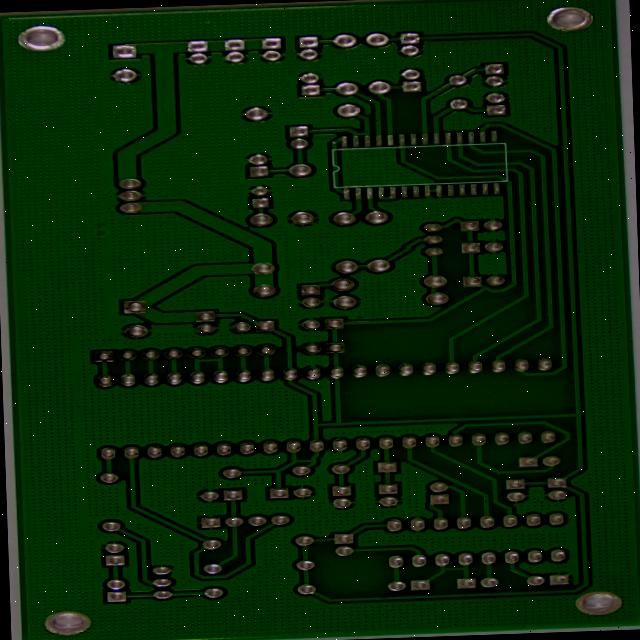short: (200, 353, 244, 374), (463, 568, 504, 584), (302, 459, 338, 473), (373, 129, 394, 139)
